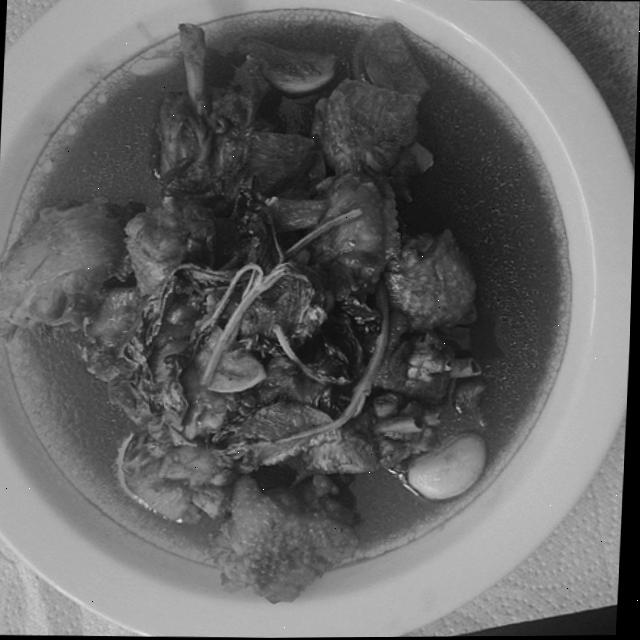鸡肉料理 含炸鸡: (0, 3, 572, 608)
